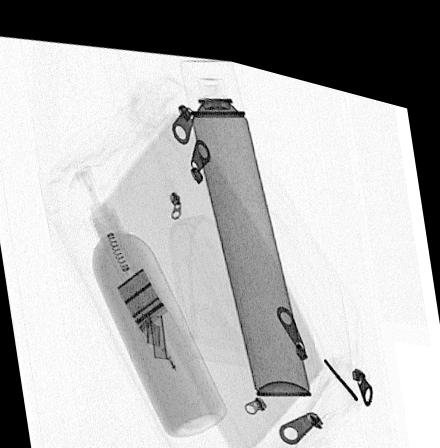Sprayer: (177, 47, 312, 383)
